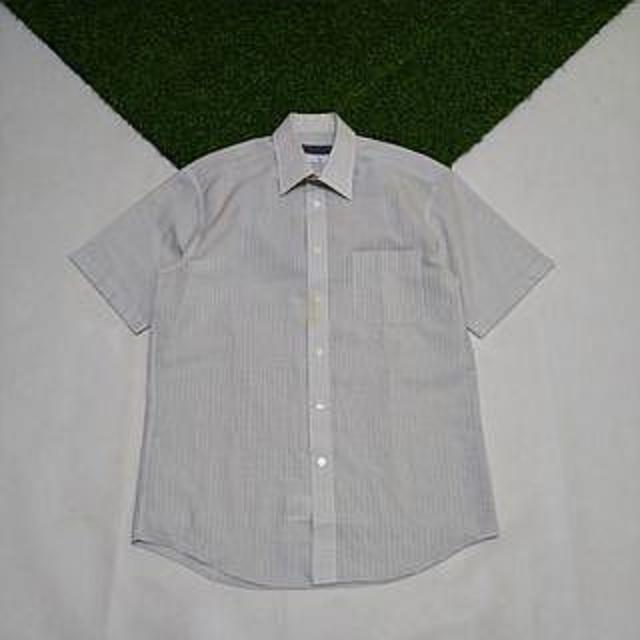SHIRT: (60, 97, 568, 597)
